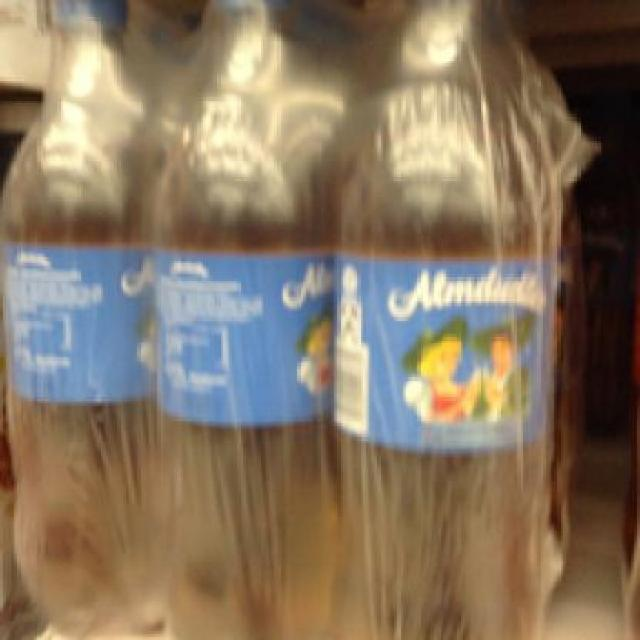Soda: (328, 2, 552, 638), (142, 0, 332, 637), (0, 0, 155, 638)
